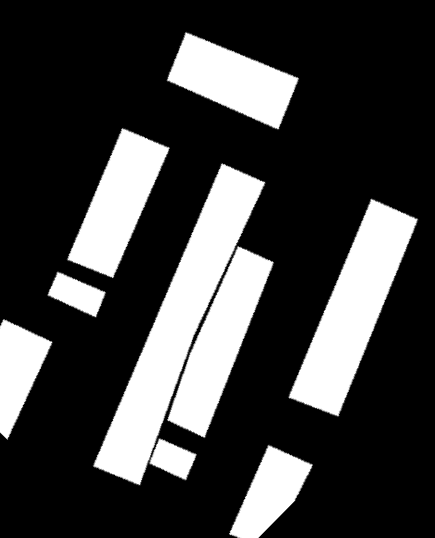parkingspot: (93, 163, 265, 485), (289, 199, 418, 416), (167, 246, 274, 438), (67, 128, 170, 278), (167, 33, 299, 129), (229, 445, 313, 538), (0, 319, 52, 440), (48, 272, 106, 317)
